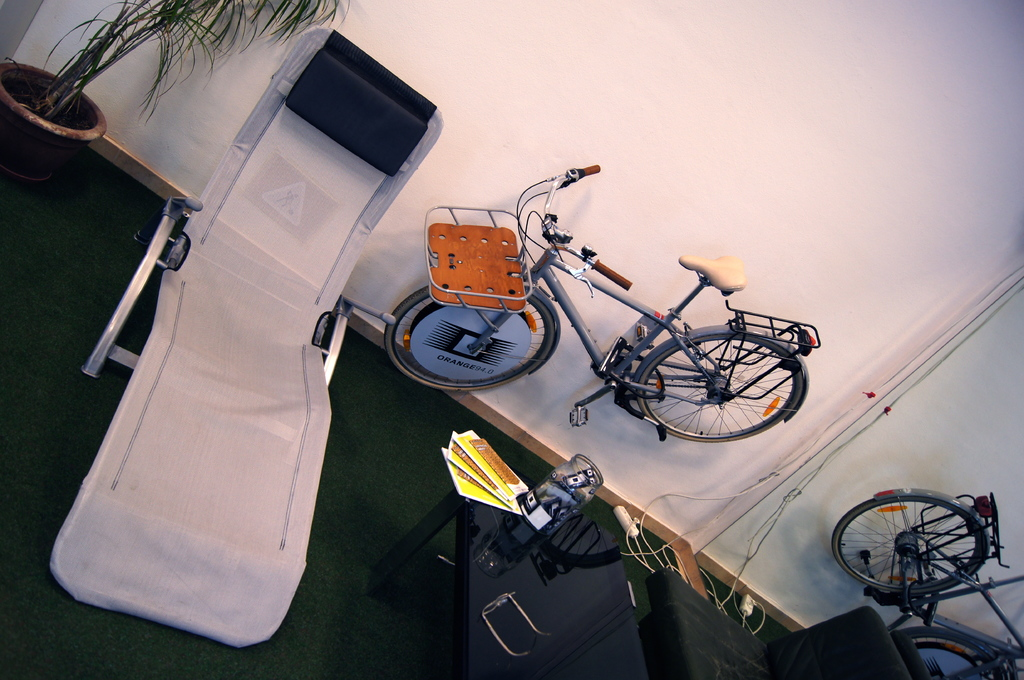Bicycle: (384, 161, 822, 385), (828, 487, 1023, 679)
